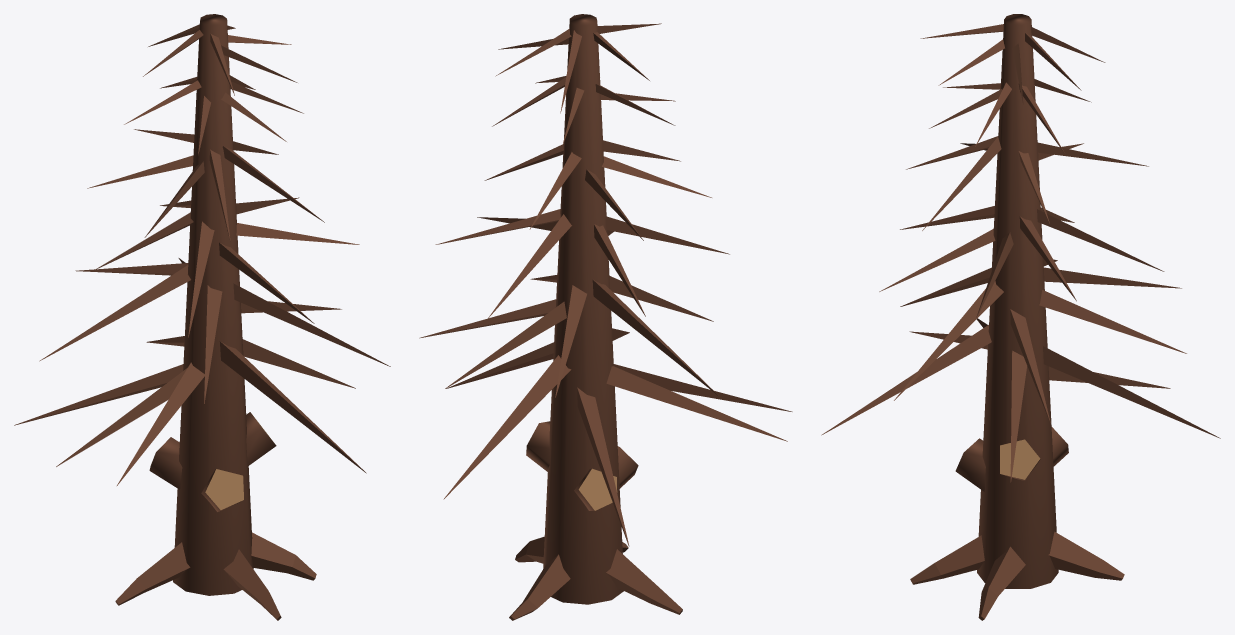
Rendered from fir_tree_low_poly.glb.
The picture shows the model from 3 angles, left to right: view 1: azimuth 30°, elevation 25°; view 2: azimuth 150°, elevation 25°; view 3: azimuth 270°, elevation 25°; orthographic projection. The views are drawn at different scales.
Visible parts, largest first — view 1: Cylinder, Cube.029, Cylinder.002, Cylinder.004; view 2: Cylinder, Cube.029, Cylinder.002, Cylinder.004; view 3: Cylinder, Cube.029, Cylinder.002, Cylinder.004.
Boxes of the visible parts, x1,y1,x2,y2 form: Cylinder: (149, 14, 276, 595); Cube.029: (14, 24, 390, 485); Cylinder.002: (115, 532, 316, 620); Cylinder.004: (149, 416, 272, 509); Cylinder: (526, 14, 638, 604); Cube.029: (419, 23, 792, 546); Cylinder.002: (509, 536, 682, 620); Cylinder.004: (578, 468, 617, 510); Cylinder: (955, 14, 1068, 588); Cube.029: (821, 24, 1220, 482); Cylinder.002: (910, 531, 1124, 620); Cylinder.004: (1000, 439, 1040, 479).
Size of the model in its own units: 1066 by 1781 by 1148.
